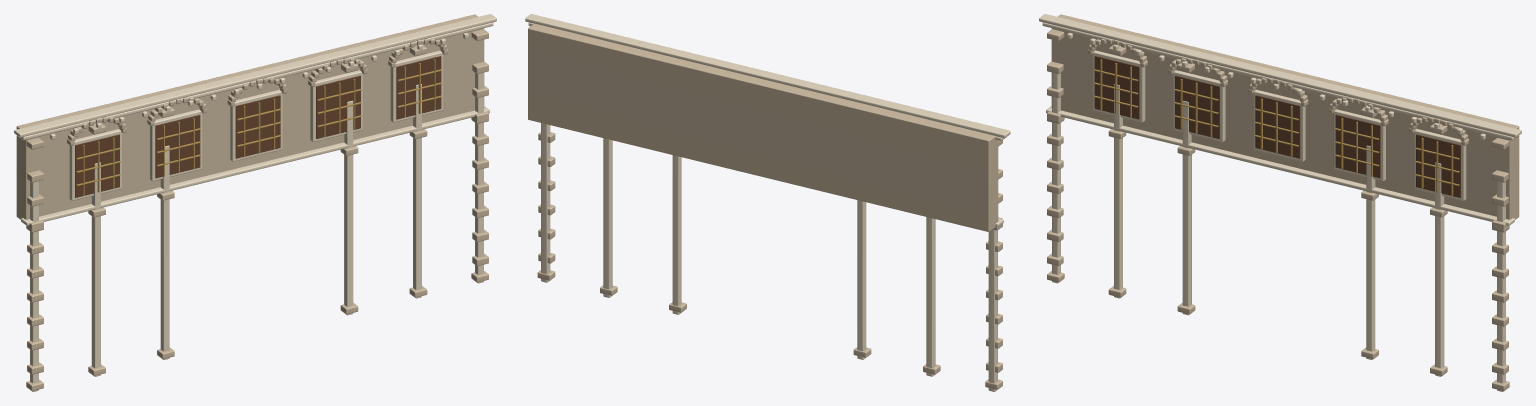
Rendered from manor_facade.glb.
The picture shows the model from 3 angles, left to right: view 1: azimuth 30°, elevation 25°; view 2: azimuth 150°, elevation 25°; view 3: azimuth 330°, elevation 25°; orthographic projection.
Visible parts, largest first — view 1: Upper facade extension, Layered entablature.002, Layered entablature, Upper window recess.002, Upper window recess, Upper window recess.004, Upper window recess.003, Upper window recess.001, Pilaster shaft.003, Pilaster shaft.001, Pilaster shaft.002, Layered entablature.001 (+8 smaller); view 2: Upper facade extension, Layered entablature.002, Pilaster shaft.001, Pilaster shaft.003, Pilaster shaft.004, Pilaster shaft.002, Pilaster shaft, Pilaster shaft.005; view 3: Upper facade extension, Layered entablature.002, Layered entablature, Upper window recess.002, Upper window recess.004, Upper window recess, Upper window recess.001, Upper window recess.003, Pilaster shaft.002, Pilaster shaft.004, Pilaster shaft.003, Layered entablature.001 (+8 smaller).
Boxes of the visible parts, left/top/right/bottom form: Upper facade extension: left=16, top=14, right=484, bottom=219; Layered entablature.002: left=14, top=14, right=496, bottom=137; Layered entablature: left=21, top=106, right=489, bottom=225; Upper window recess.002: left=235, top=95, right=280, bottom=158; Upper window recess: left=75, top=134, right=119, bottom=197; Upper window recess.004: left=396, top=56, right=441, bottom=119; Upper window recess.003: left=316, top=75, right=360, bottom=138; Upper window recess.001: left=155, top=114, right=200, bottom=178; Pilaster shaft.003: left=344, top=100, right=353, bottom=315; Pilaster shaft.001: left=91, top=162, right=100, bottom=376; Pilaster shaft.002: left=160, top=145, right=169, bottom=359; Layered entablature.001: left=18, top=22, right=493, bottom=140; Upper facade extension: left=528, top=23, right=998, bottom=231; Layered entablature.002: left=525, top=14, right=1010, bottom=138; Pilaster shaft.001: left=926, top=217, right=935, bottom=376; Pilaster shaft.003: left=672, top=155, right=681, bottom=314; Pilaster shaft.004: left=603, top=138, right=612, bottom=297; Pilaster shaft.002: left=857, top=200, right=866, bottom=359; Pilaster shaft: left=988, top=229, right=997, bottom=391; Pilaster shaft.005: left=541, top=123, right=550, bottom=282; Upper facade extension: left=1051, top=14, right=1519, bottom=219; Layered entablature.002: left=1039, top=14, right=1521, bottom=137; Layered entablature: left=1046, top=106, right=1514, bottom=225; Upper window recess.002: left=1255, top=95, right=1300, bottom=158; Upper window recess.004: left=1416, top=134, right=1460, bottom=197; Upper window recess: left=1094, top=56, right=1139, bottom=119; Upper window recess.001: left=1175, top=75, right=1219, bottom=138; Upper window recess.003: left=1335, top=114, right=1380, bottom=178; Pilaster shaft.002: left=1182, top=100, right=1191, bottom=315; Pilaster shaft.004: left=1435, top=162, right=1444, bottom=376; Pilaster shaft.003: left=1366, top=145, right=1375, bottom=359; Layered entablature.001: left=1042, top=22, right=1517, bottom=140.
Size of the model in its own units: 20.8 by 10.88 by 1.13.
